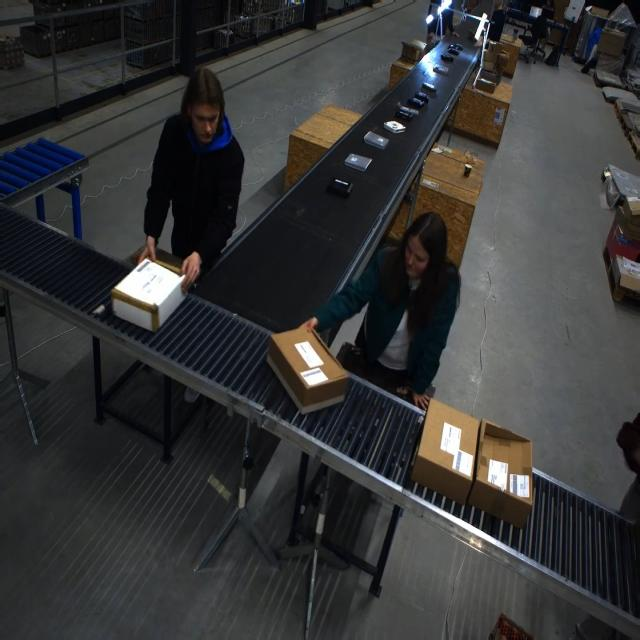box: (466, 416, 534, 523), (266, 324, 345, 412), (413, 406, 479, 503), (111, 257, 188, 330)
product: (326, 178, 353, 198), (344, 153, 371, 172), (363, 131, 389, 150), (383, 121, 405, 134), (395, 108, 414, 121), (406, 97, 423, 109), (432, 63, 448, 75), (414, 91, 429, 103), (422, 81, 437, 92), (447, 44, 462, 54), (440, 53, 454, 61)
